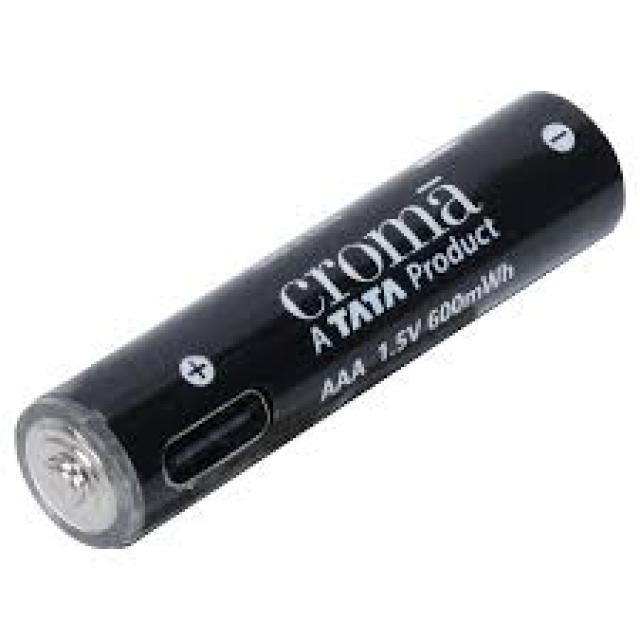Battery: (17, 91, 620, 543)
